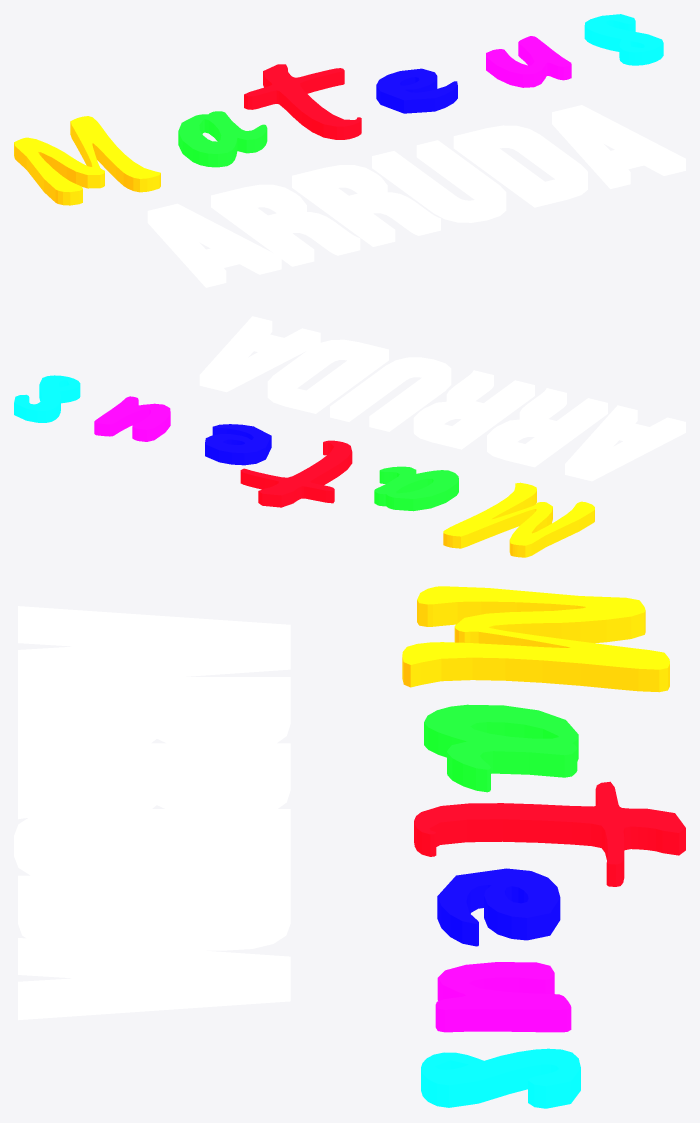
Rendered from myName.glb.
3 views of the same model, one above another, from view 1: azimuth 30°, elevation 25°; view 2: azimuth 150°, elevation 25°; view 3: azimuth 270°, elevation 25° (orthographic). The views are drawn at different scales.
Visible parts, largest first — view 1: Text.001, Text; view 2: Text.001, Text; view 3: Text.001, Text.
Part boxes in pixels (x1=…): Text.001: x1=147, y1=105, x2=685, y2=287; Text: x1=14, y1=14, x2=663, y2=205; Text.001: x1=199, y1=316, x2=685, y2=481; Text: x1=14, y1=375, x2=594, y2=557; Text.001: x1=14, y1=606, x2=290, y2=1020; Text: x1=402, y1=586, x2=685, y2=1108.
Size of the model in its own units: 2.73 by 0.0573 by 1.55.
